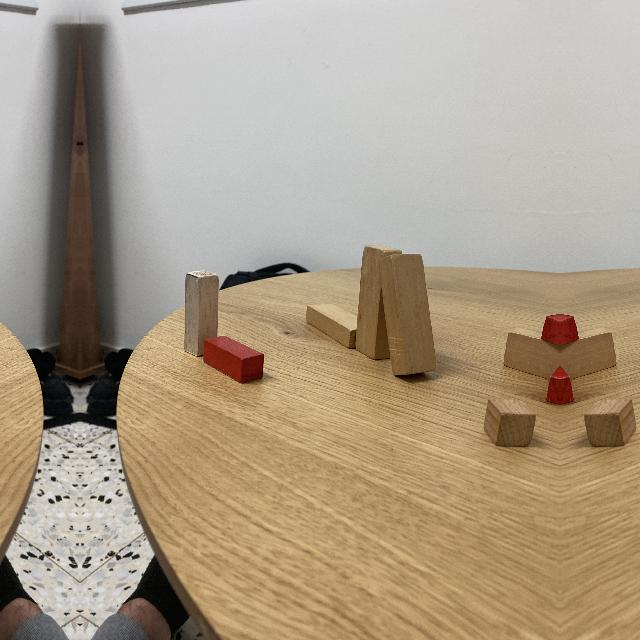cube: (483, 399, 537, 446), (583, 399, 637, 446)
jenga: (379, 254, 437, 377), (355, 245, 402, 360), (184, 270, 219, 357), (503, 327, 560, 379), (560, 327, 617, 379), (306, 303, 358, 348)
red block: (202, 335, 264, 384)
